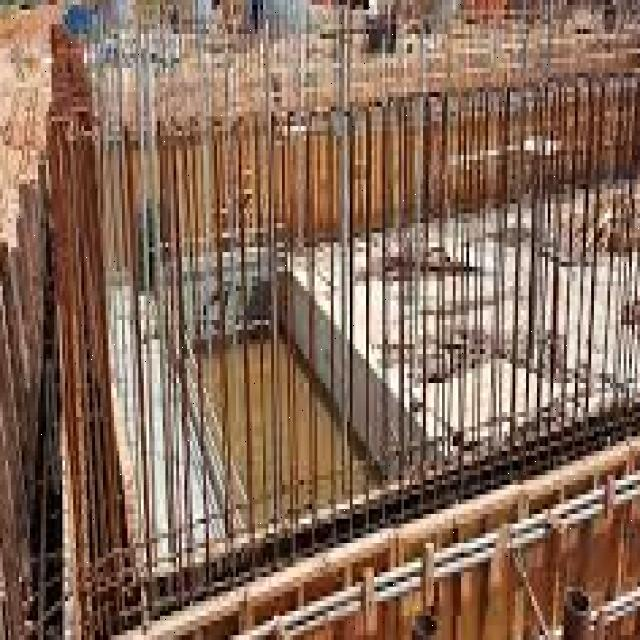Foundation: (5, 34, 640, 640)
